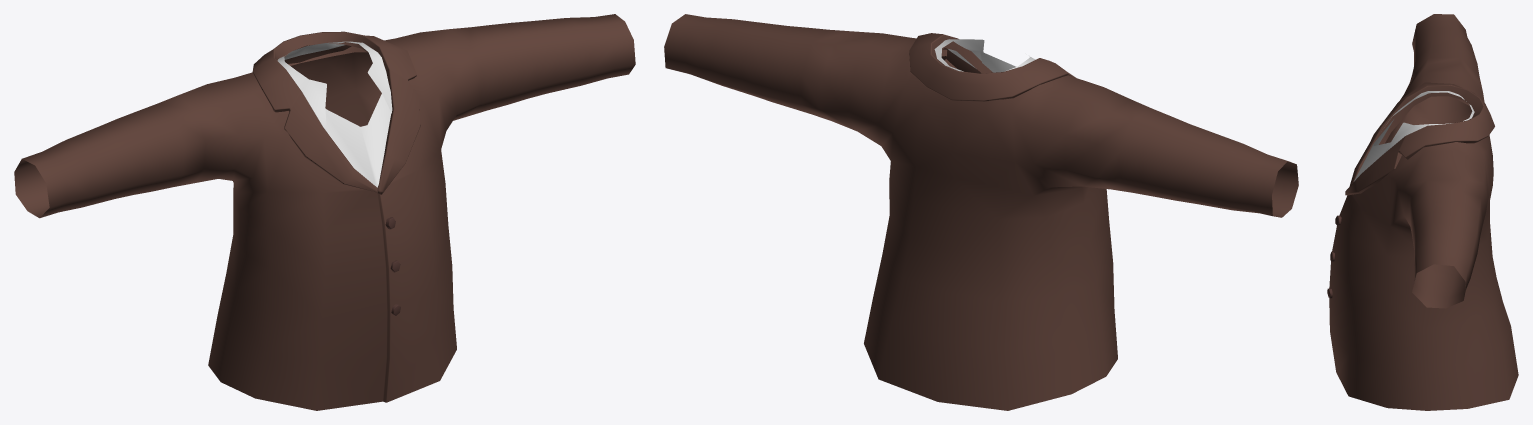
Rendered from Outerwear_Brown_010.glb.
The picture shows the model from 3 angles, left to right: view 1: azimuth 30°, elevation 25°; view 2: azimuth 150°, elevation 25°; view 3: azimuth 270°, elevation 25°; orthographic projection. The views are drawn at different scales.
Visible parts, largest first — view 1: Outerwear_Brown_010; view 2: Outerwear_Brown_010; view 3: Outerwear_Brown_010.
Boxes of the visible parts, left/top/right/bottom form: Outerwear_Brown_010: left=14, top=14, right=635, bottom=410; Outerwear_Brown_010: left=664, top=14, right=1298, bottom=410; Outerwear_Brown_010: left=1327, top=14, right=1518, bottom=410.
Bounding box in the file's own units: 1.29 × 0.6477 × 0.4144.
Materials: 1 (1 with a texture image).
